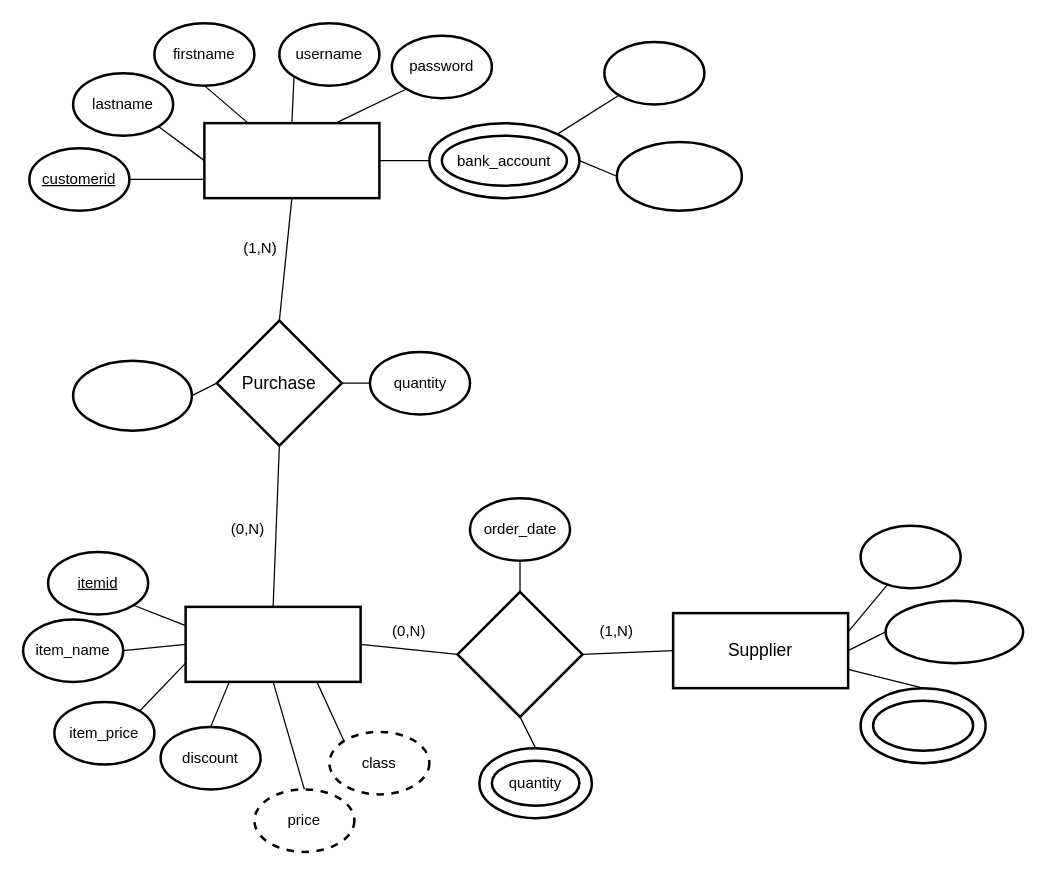
Some shapes in this 1045 by 874 pixel diagram are drawn without their labels. The box of each missing label's shape, as (x1, y1, x2, y2) in pixels:
account_number: (615, 140, 742, 211)
bank_name: (602, 40, 705, 105)
Customer: (202, 121, 380, 199)
Item: (184, 605, 361, 682)
location: (859, 686, 986, 764)
Ordered to: (456, 590, 583, 718)
purchase_date: (71, 359, 192, 431)
supplier_name: (884, 599, 1024, 664)
supplierid: (859, 524, 961, 589)
